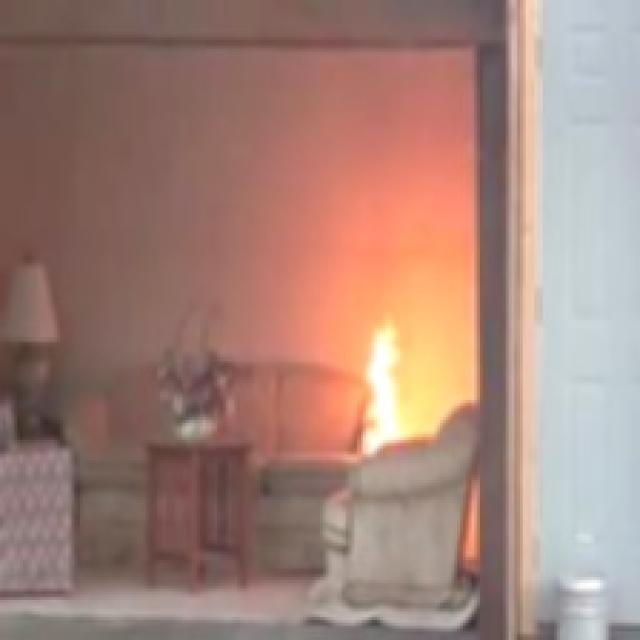fire: (320, 287, 449, 484)
